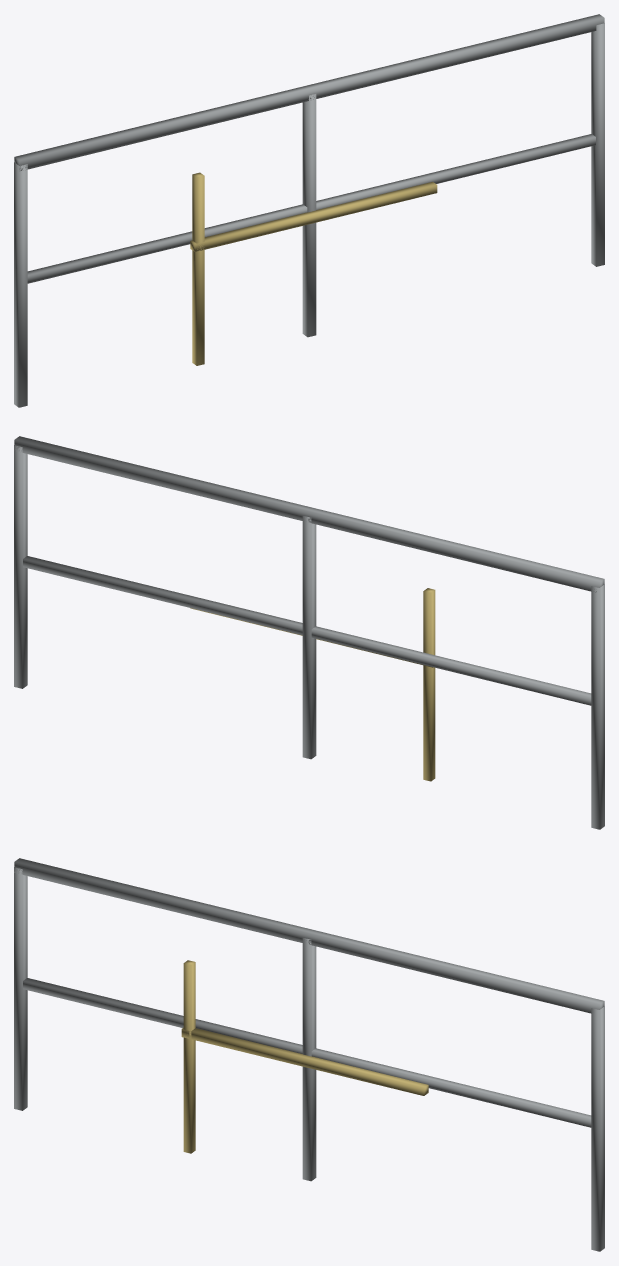
The model's file is residential_gate_l300_h120.glb.
The picture shows the model from 3 angles, top to bottom: view 1: azimuth 30°, elevation 25°; view 2: azimuth 150°, elevation 25°; view 3: azimuth 330°, elevation 25°; orthographic projection.
Parts seen in each view (by area): view 1: world; view 2: world; view 3: world.
Boxes of the visible parts, box(x1,y1,x2,y2) form: world: box(14, 14, 604, 407); world: box(14, 436, 604, 829); world: box(14, 858, 604, 1251).
Bounding box in the file's own units: 3.05 × 1.23 × 0.0825.
